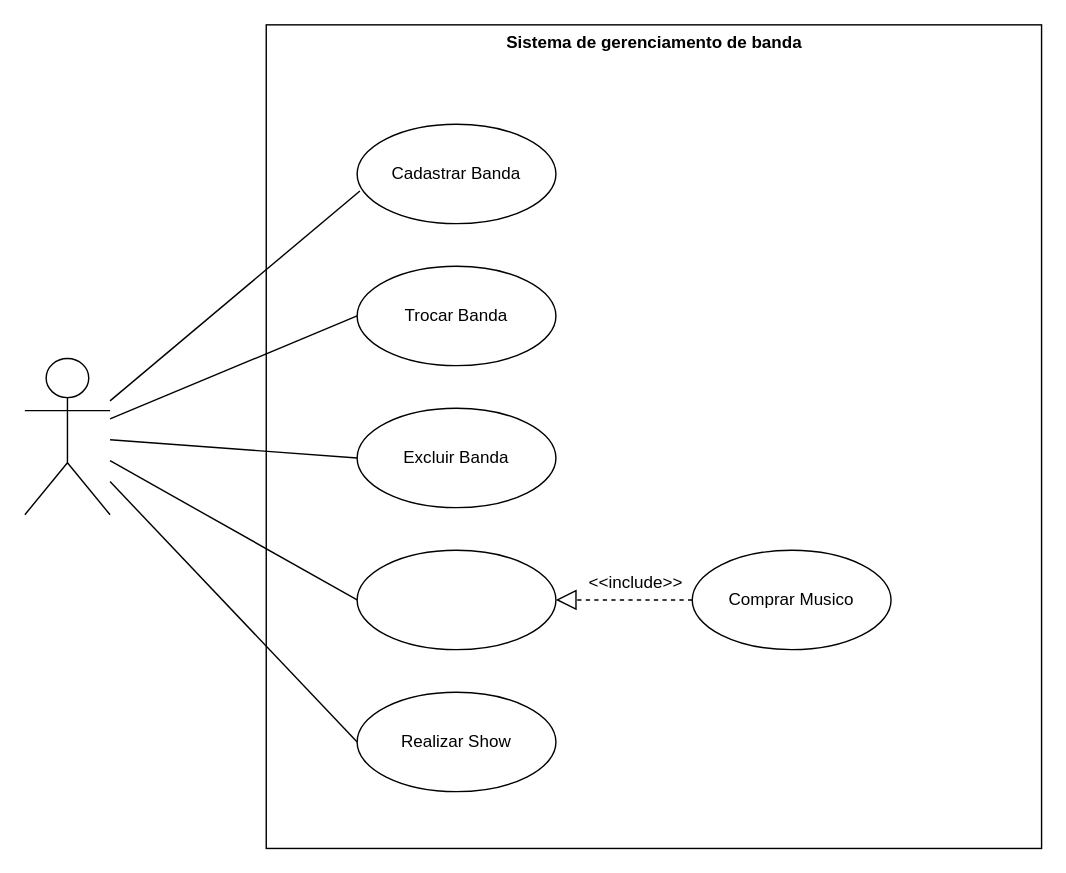
Image size: 1066x873. Some labels were removed from this diagram. The centre of each missing label's shape, as x and y in pixels:
"Acessar Loja" belongs at (456,599).
"Gerente" belongs at (66,436).
